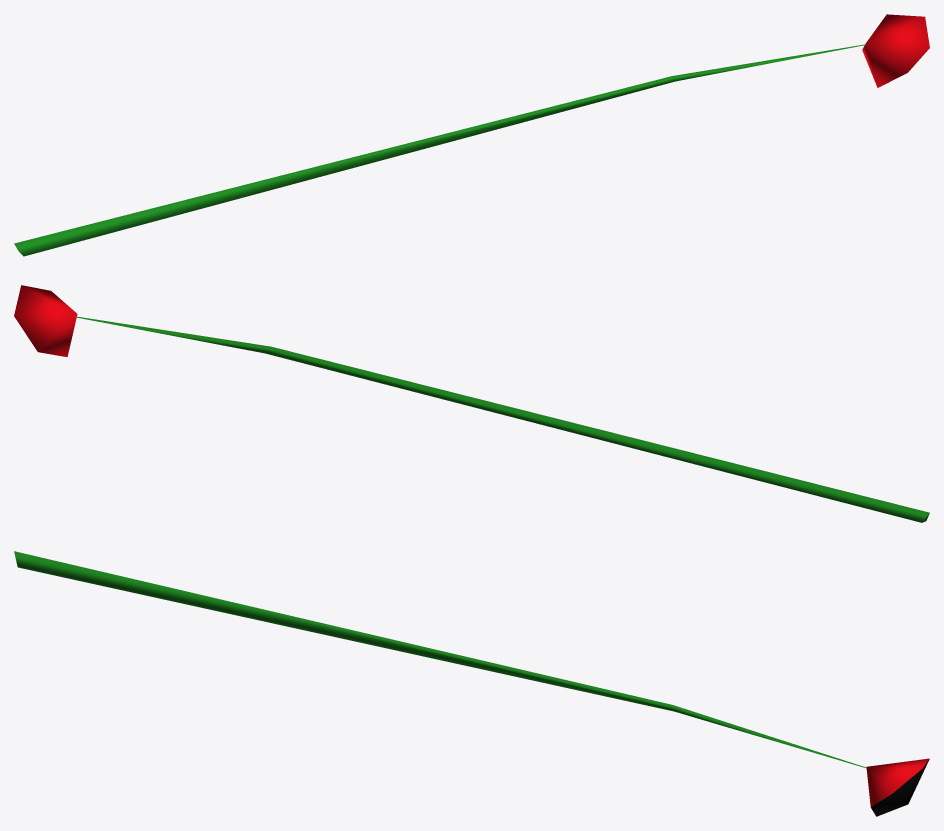
File: poppyFlowerRotten.glb
3 renders of one model, top to bottom at view 1: azimuth 30°, elevation 25°; view 2: azimuth 150°, elevation 25°; view 3: azimuth 330°, elevation 25°, orthographic.
Parts seen in each view (by area): view 1: Icosphere.001; view 2: Icosphere.001; view 3: Icosphere.001.
Boxes of the visible parts, bbox=[...] form: Icosphere.001: bbox=[14, 14, 929, 256]; Icosphere.001: bbox=[14, 285, 929, 522]; Icosphere.001: bbox=[14, 551, 929, 816].
Bounding box in the file's own units: 1.1 × 0.0709 × 0.0851.
